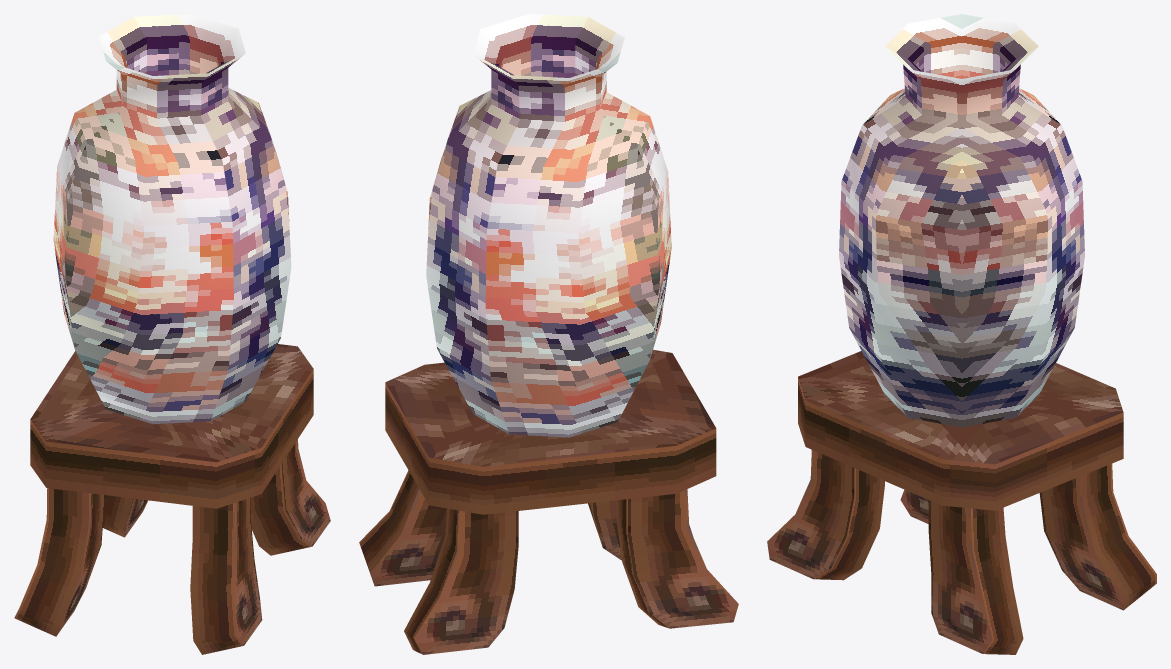
File: oisu2.glb
3 views of the same model, side by side, from view 1: azimuth 30°, elevation 25°; view 2: azimuth 150°, elevation 25°; view 3: azimuth 270°, elevation 25° (orthographic). The views are drawn at different scales.
Parts seen in each view (by area): view 1: oisu2; view 2: oisu2; view 3: oisu2.
Part boxes in pixels (x1,y1,x2,y2): oisu2: [14, 14, 330, 654]; oisu2: [359, 14, 738, 654]; oisu2: [767, 14, 1156, 654].
Size of the model in its own units: 152 by 232 by 152.
3 materials, 3 textured.
